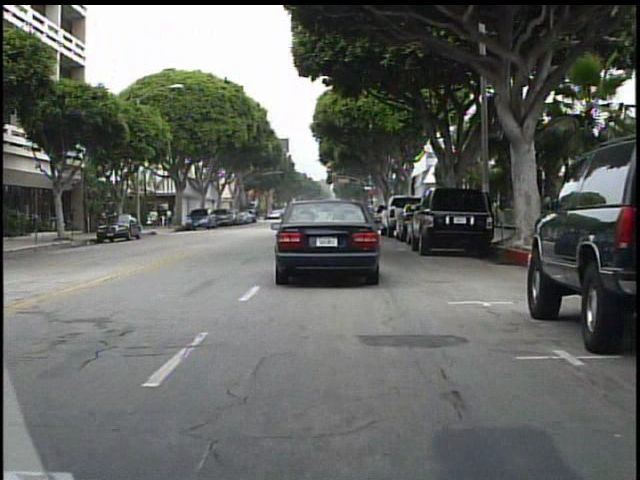person: (149, 204, 164, 234), (167, 204, 179, 232)
